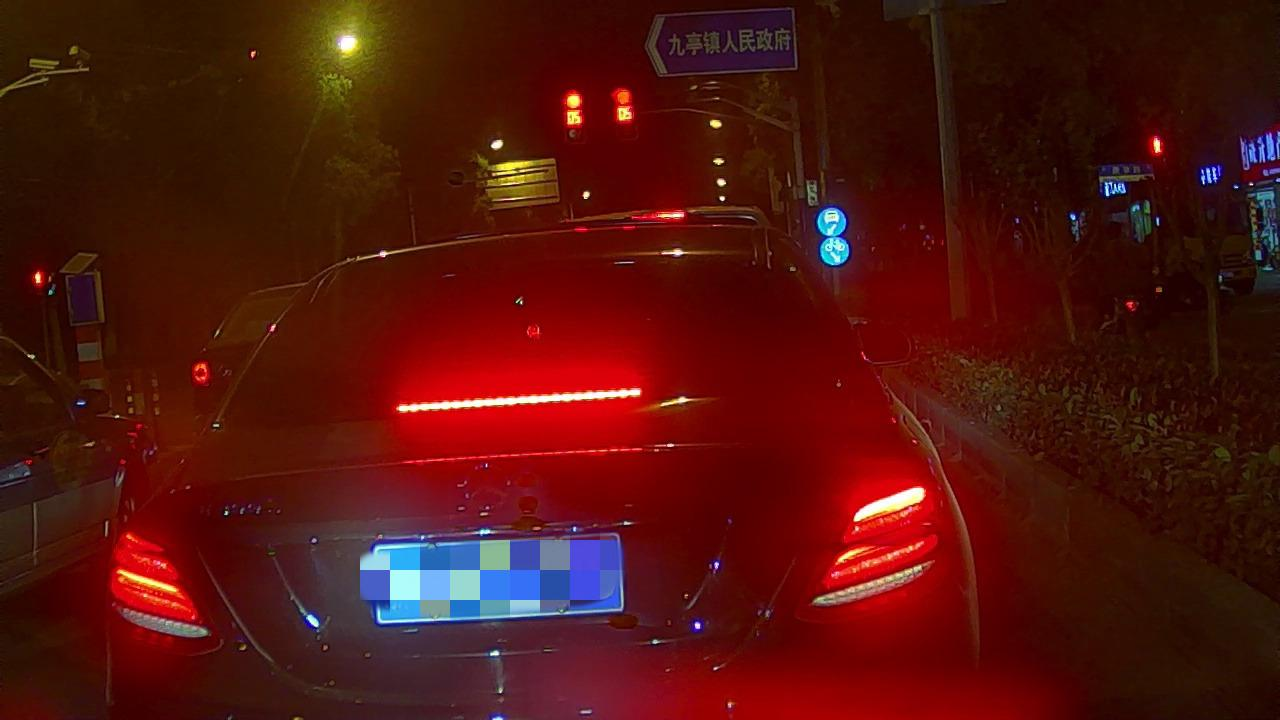traffic_light: (608, 82, 636, 125), (564, 93, 587, 127)
